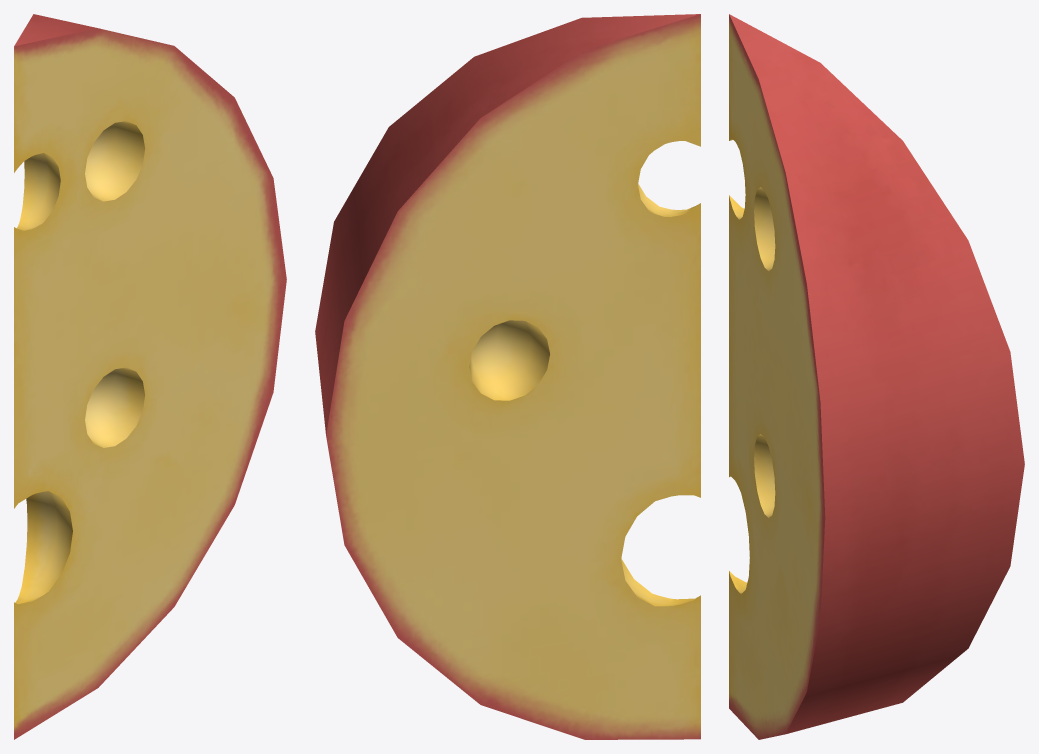
The model's file is que 2 xd.obj.
3 views of the same model, side by side, from view 1: azimuth 30°, elevation 25°; view 2: azimuth 150°, elevation 25°; view 3: azimuth 270°, elevation 25° (orthographic). The views are drawn at different scales.
Parts seen in each view (by area): view 1: queso_tajada; view 2: queso_tajada; view 3: queso_tajada.
Part boxes in pixels (x1,y1,x2,y2): queso_tajada: [14, 14, 286, 739]; queso_tajada: [315, 14, 700, 739]; queso_tajada: [729, 14, 1024, 739].
Size of the model in its own units: 0.968 by 2 by 0.7721.
Materials: 1 (1 with a texture image).
